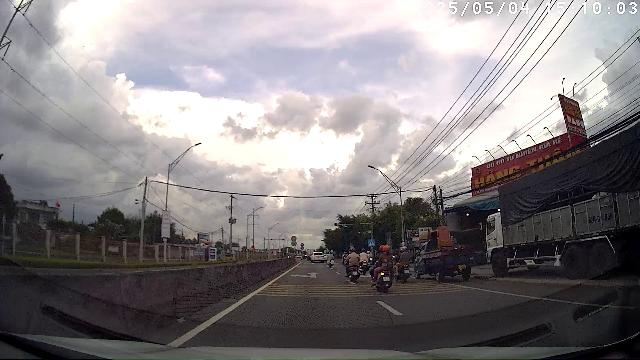423a-duong-nguoi-di-bo-sang-ngang-1: (368, 239, 376, 246)
